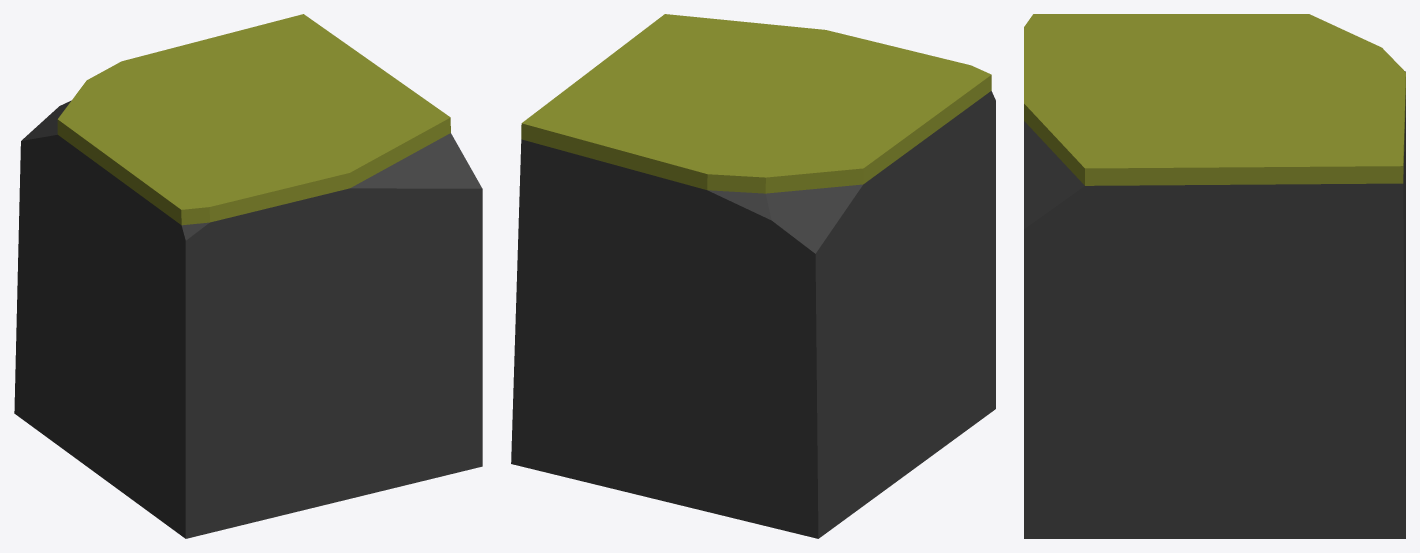
File: rock_rectangular_snow_moss_type_5_LOD0.fbx
The picture shows the model from 3 angles, left to right: view 1: azimuth 30°, elevation 25°; view 2: azimuth 150°, elevation 25°; view 3: azimuth 270°, elevation 25°; orthographic projection. The views are drawn at different scales.
Parts seen in each view (by area): view 1: Cube.049; view 2: Cube.049; view 3: Cube.049.
Boxes of the visible parts, left/top/right/bottom form: Cube.049: left=14, top=14, right=482, bottom=538; Cube.049: left=511, top=14, right=995, bottom=538; Cube.049: left=1024, top=14, right=1405, bottom=538.
Size of the model in its own units: 200 by 213 by 200.
